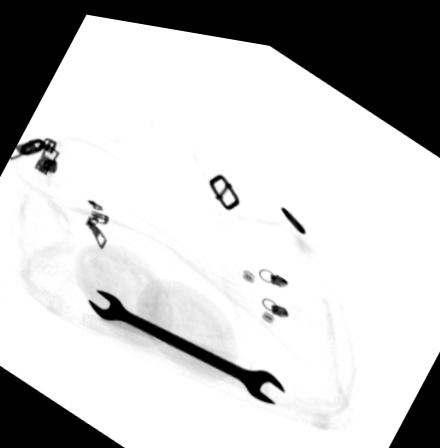Wrench: (85, 282, 286, 395)
